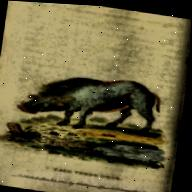boar: (14, 65, 164, 140)
